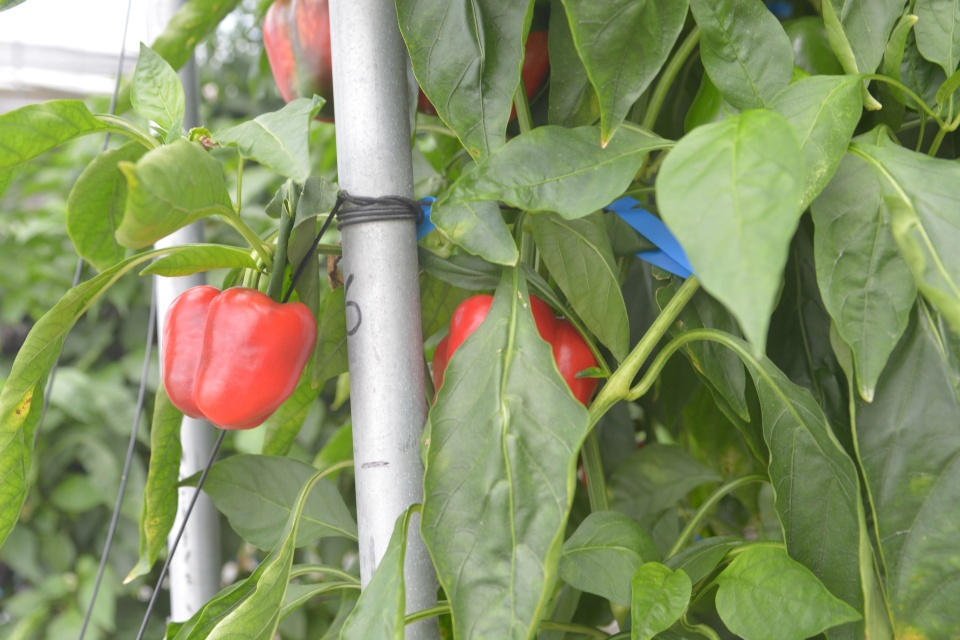fruit: (160, 283, 320, 433), (681, 12, 857, 136), (429, 290, 603, 406), (416, 29, 551, 122), (259, 0, 334, 124)
